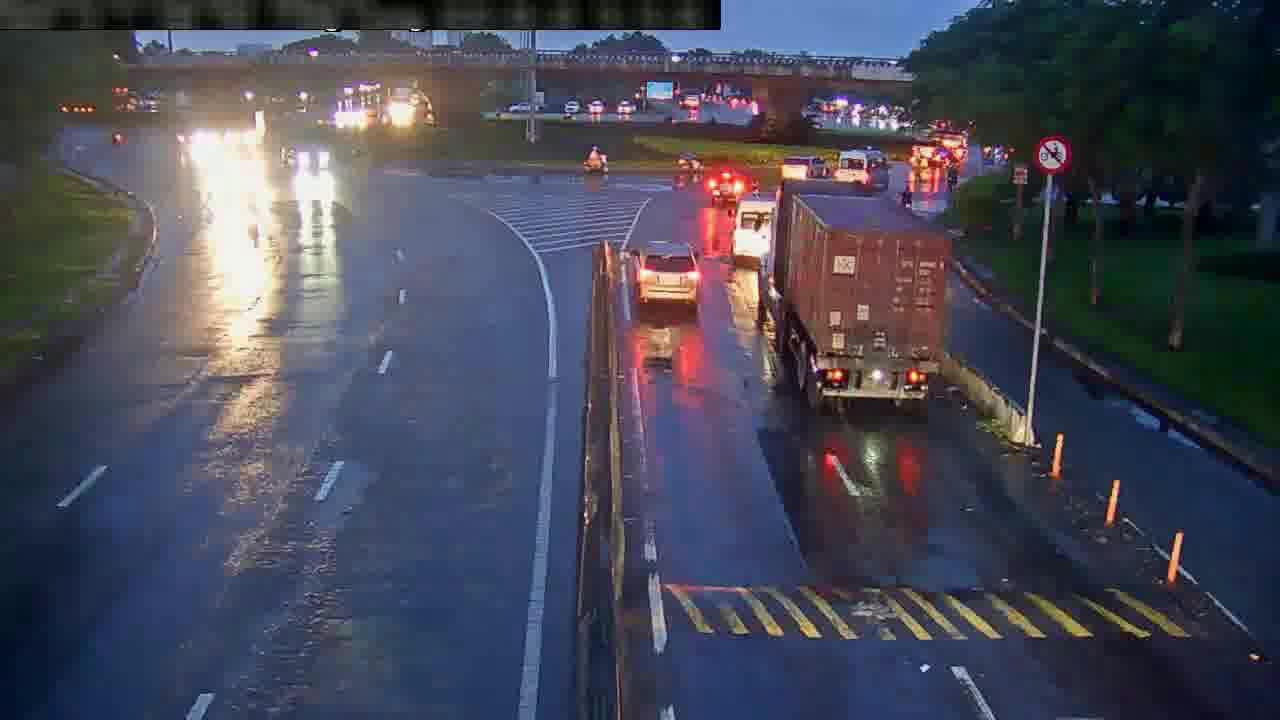car: (630, 237, 702, 312), (775, 152, 830, 180)
container: (755, 172, 946, 414)
motorbike: (576, 146, 613, 177)
passenger_car: (722, 199, 776, 264), (834, 149, 891, 188)
